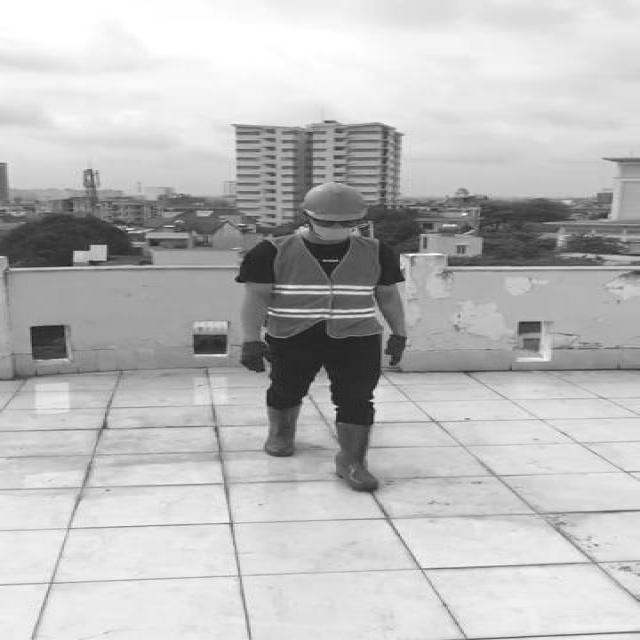boots: (332, 420, 384, 494), (265, 403, 302, 458)
face_mask: (310, 215, 362, 242)
glasses: (312, 217, 362, 230)
hand_glove: (242, 339, 274, 374), (388, 334, 407, 365)
head_helmet: (292, 179, 374, 224)
person: (225, 173, 422, 504)
vest: (268, 238, 384, 339)
